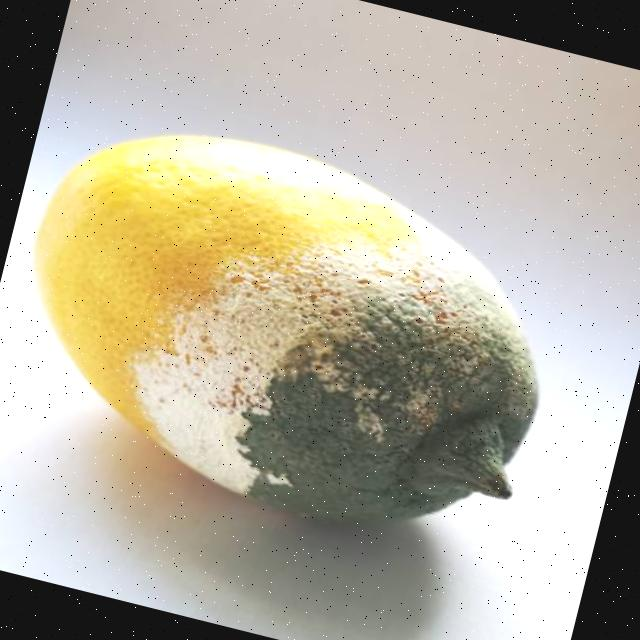Rotten: (0, 92, 585, 569)
